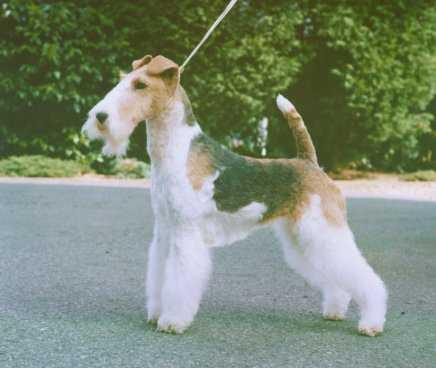wire-haired_fox_terrier: (78, 53, 389, 336)
